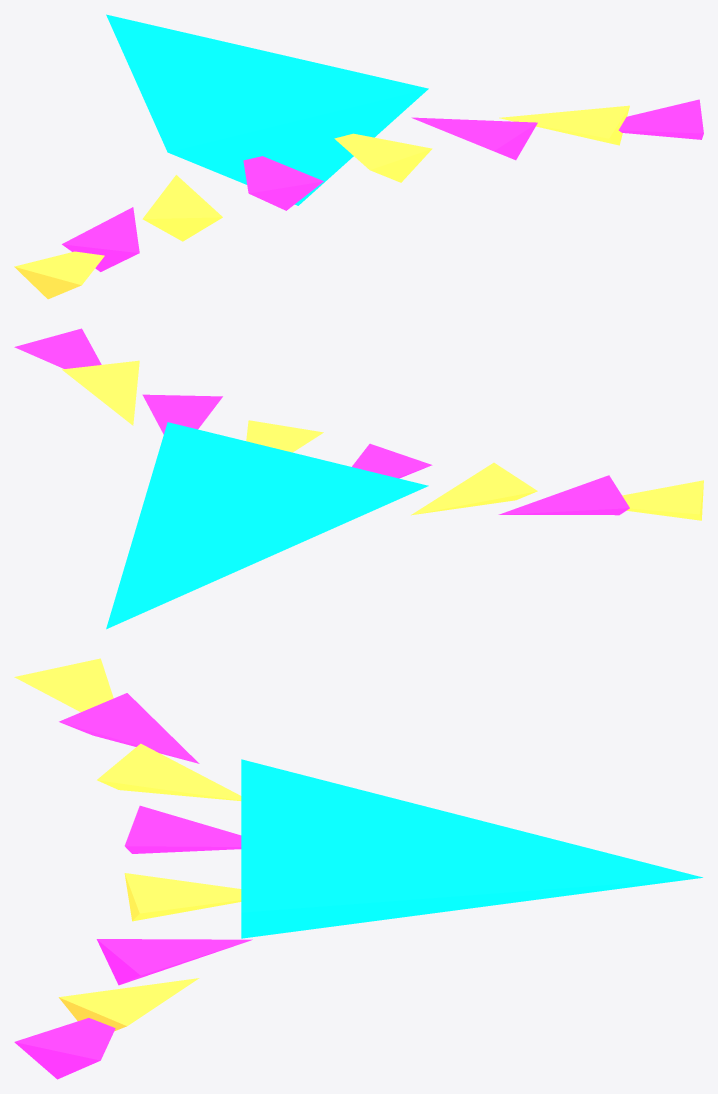
Rendered from fractal_bloom.glb.
3 renders of one model, top to bottom at view 1: azimuth 30°, elevation 25°; view 2: azimuth 150°, elevation 25°; view 3: azimuth 270°, elevation 25°, orthographic. The views are drawn at different scales.
Visible parts, largest first — view 1: FractalBloomSeedTriangle, FractalBloomChildShard2, FractalBloomChildShard3, FractalBloomChildShard6, FractalBloomChildShard5, FractalBloomChildShard1, FractalBloomChildShard4, FractalBloomChildShard0, FractalBloomChildShard7; view 2: FractalBloomSeedTriangle, FractalBloomChildShard2, FractalBloomChildShard1, FractalBloomChildShard6, FractalBloomChildShard0, FractalBloomChildShard7, FractalBloomChildShard5, FractalBloomChildShard4, FractalBloomChildShard3; view 3: FractalBloomSeedTriangle, FractalBloomChildShard2, FractalBloomChildShard1, FractalBloomChildShard5, FractalBloomChildShard3, FractalBloomChildShard4, FractalBloomChildShard7, FractalBloomChildShard6, FractalBloomChildShard0.
Part boxes in pixels (box(x1,y1,x2,y2)): FractalBloomSeedTriangle: box(106, 14, 428, 205); FractalBloomChildShard2: box(142, 175, 222, 241); FractalBloomChildShard3: box(243, 156, 323, 210); FractalBloomChildShard6: box(499, 105, 629, 145); FractalBloomChildShard5: box(411, 117, 537, 160); FractalBloomChildShard1: box(62, 207, 139, 271); FractalBloomChildShard4: box(334, 133, 432, 182); FractalBloomChildShard0: box(14, 251, 104, 299); FractalBloomChildShard7: box(618, 99, 703, 139); FractalBloomSeedTriangle: box(106, 422, 428, 629); FractalBloomChildShard2: box(411, 462, 537, 515); FractalBloomChildShard1: box(498, 475, 629, 515); FractalBloomChildShard6: box(62, 360, 139, 425); FractalBloomChildShard0: box(622, 480, 703, 520); FractalBloomChildShard7: box(14, 328, 101, 368); FractalBloomChildShard5: box(142, 394, 222, 434); FractalBloomChildShard4: box(246, 420, 323, 452); FractalBloomChildShard3: box(352, 443, 432, 478); FractalBloomSeedTriangle: box(241, 759, 702, 938); FractalBloomChildShard2: box(97, 743, 241, 800); FractalBloomChildShard1: box(59, 693, 199, 763); FractalBloomChildShard5: box(96, 939, 252, 985); FractalBloomChildShard3: box(124, 805, 241, 853); FractalBloomChildShard4: box(124, 873, 241, 921); FractalBloomChildShard7: box(14, 1018, 115, 1079); FractalBloomChildShard6: box(58, 978, 199, 1031); FractalBloomChildShard0: box(14, 658, 113, 712).
Size of the model in its own units: 1.37 by 0.1628 by 0.9913.
